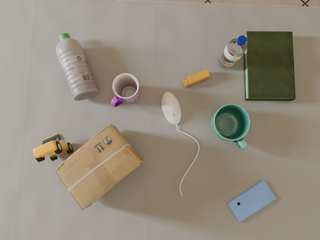book: (243, 31, 296, 101)
bottle: (56, 33, 98, 100), (219, 36, 247, 69)
box: (55, 124, 143, 210)
cup: (211, 104, 250, 150), (111, 73, 139, 107)
mouse: (161, 92, 181, 124)
phone: (228, 181, 276, 222)
toy_car: (33, 134, 73, 162), (182, 69, 210, 88)
